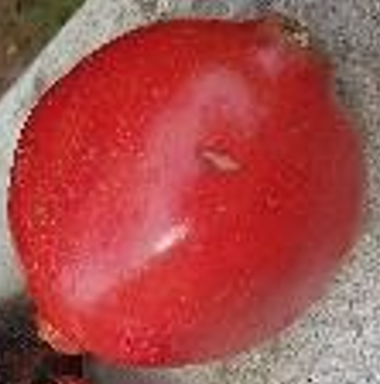pomegranate_A: (7, 13, 366, 371)
